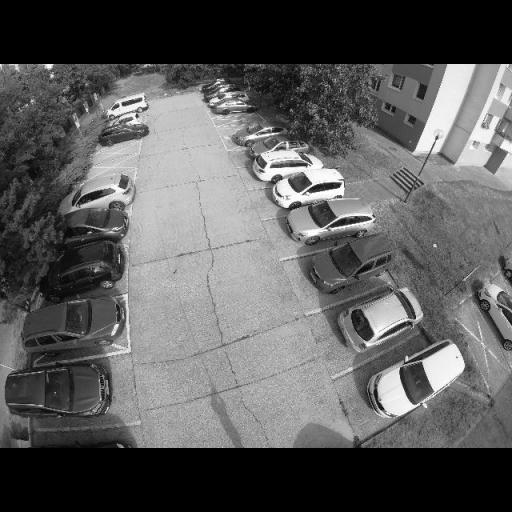busy: (366, 340, 472, 415), (4, 358, 118, 414), (23, 294, 129, 354), (336, 287, 424, 353), (308, 233, 402, 289), (48, 240, 128, 298), (284, 198, 378, 242), (14, 426, 140, 448), (60, 204, 130, 242), (274, 170, 347, 206), (61, 177, 134, 212), (478, 278, 512, 352), (254, 152, 322, 178), (250, 135, 308, 158), (232, 122, 284, 144), (99, 126, 149, 148), (210, 99, 257, 119), (109, 94, 150, 116)
free: (98, 161, 124, 175), (103, 148, 129, 159), (222, 119, 245, 129)
